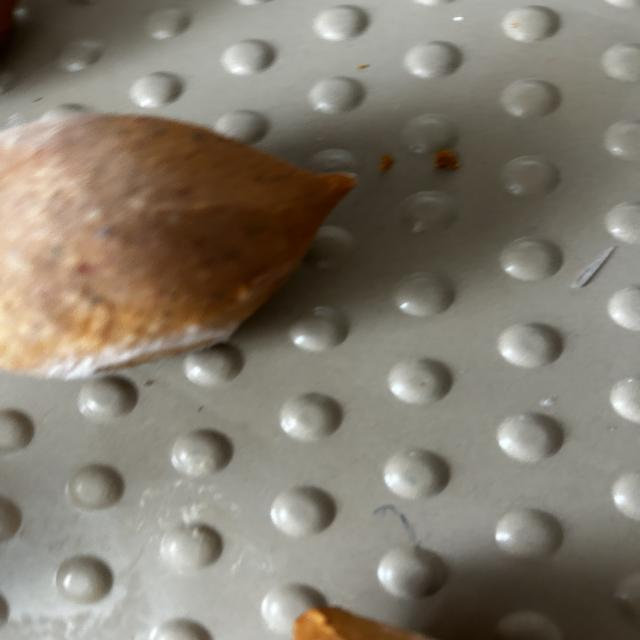kobi: (0, 114, 356, 380)
